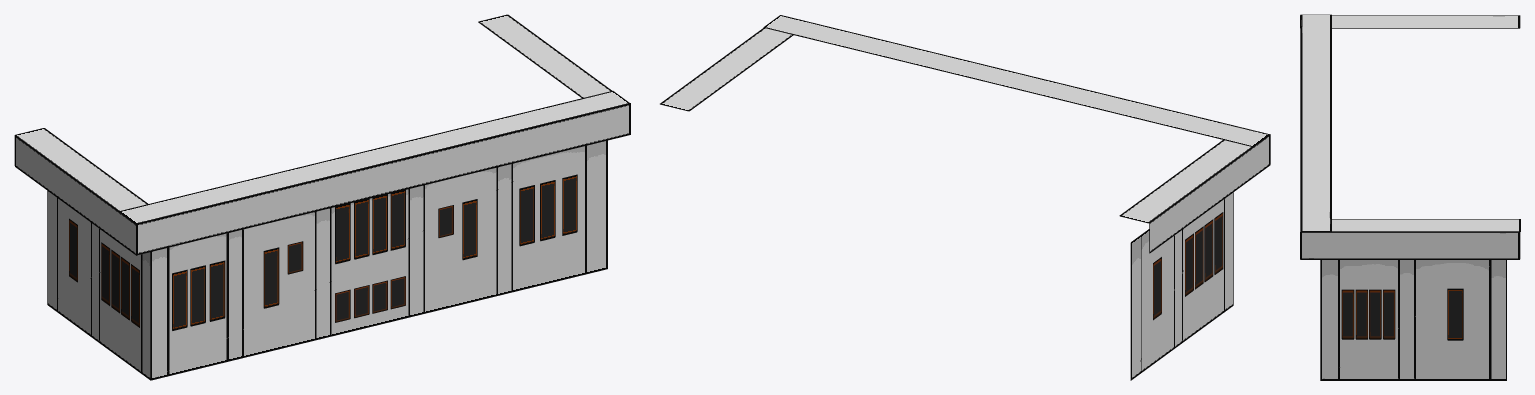
Rendered from 4th Floor Middle Part.gltf.
3 renders of one model, left to right at view 1: azimuth 30°, elevation 25°; view 2: azimuth 150°, elevation 25°; view 3: azimuth 270°, elevation 25°, orthographic. The views are drawn at different scales.
Parts seen in each view (by area): view 1: default; view 2: default; view 3: default.
Part boxes in pixels (x1,y1,x2,y2): default: (14,14,630,380); default: (660,15,1270,380); default: (1300,14,1520,380).
Size of the model in its own units: 65.88 by 21.88 by 28.44.
1 material, 1 textured.
